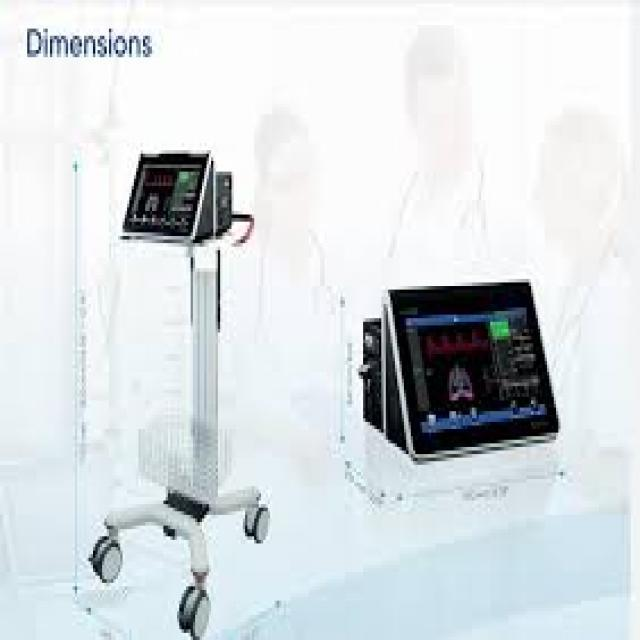ventilator: (103, 78, 266, 640)
